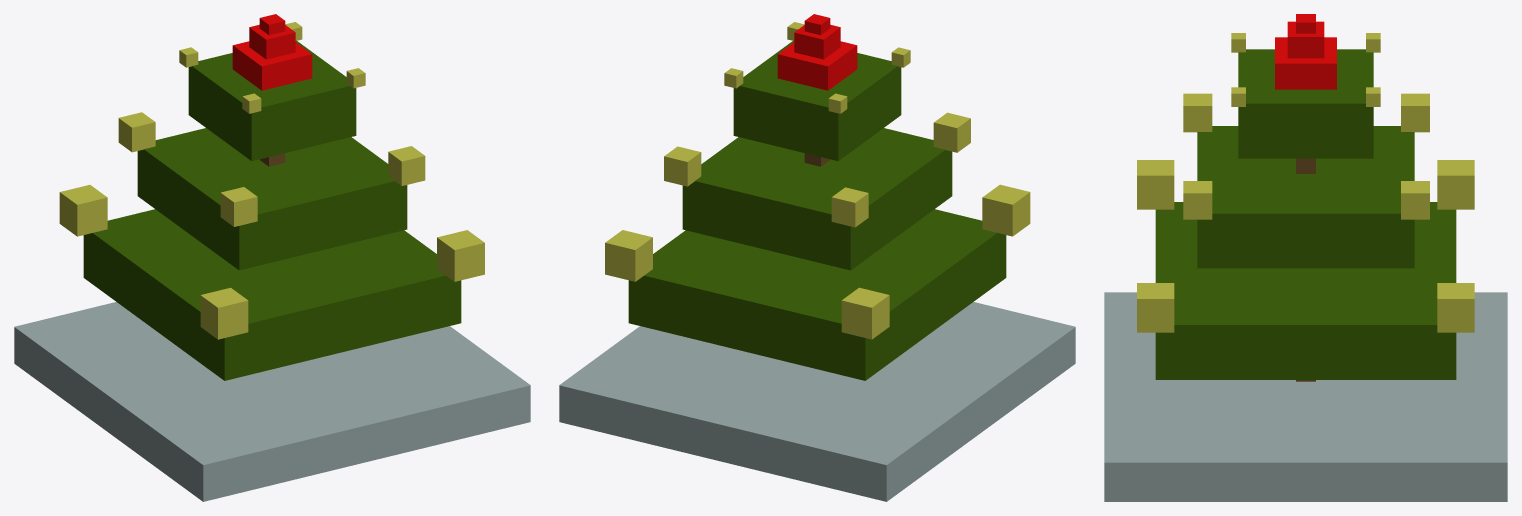
File: 049 Xmas_Tree.fbx
The picture shows the model from 3 angles, left to right: view 1: azimuth 30°, elevation 25°; view 2: azimuth 150°, elevation 25°; view 3: azimuth 270°, elevation 25°; orthographic projection. The views are drawn at different scales.
Parts seen in each view (by area): view 1: Lowpoly_Christmas_Pack_049:pCube21; view 2: Lowpoly_Christmas_Pack_049:pCube21; view 3: Lowpoly_Christmas_Pack_049:pCube21.
Boxes of the visible parts, bbox=[...] form: Lowpoly_Christmas_Pack_049:pCube21: bbox=[14, 14, 530, 501]; Lowpoly_Christmas_Pack_049:pCube21: bbox=[559, 14, 1075, 501]; Lowpoly_Christmas_Pack_049:pCube21: bbox=[1104, 14, 1507, 501].
Bounding box in the file's own units: 2 × 2.18 × 2.
